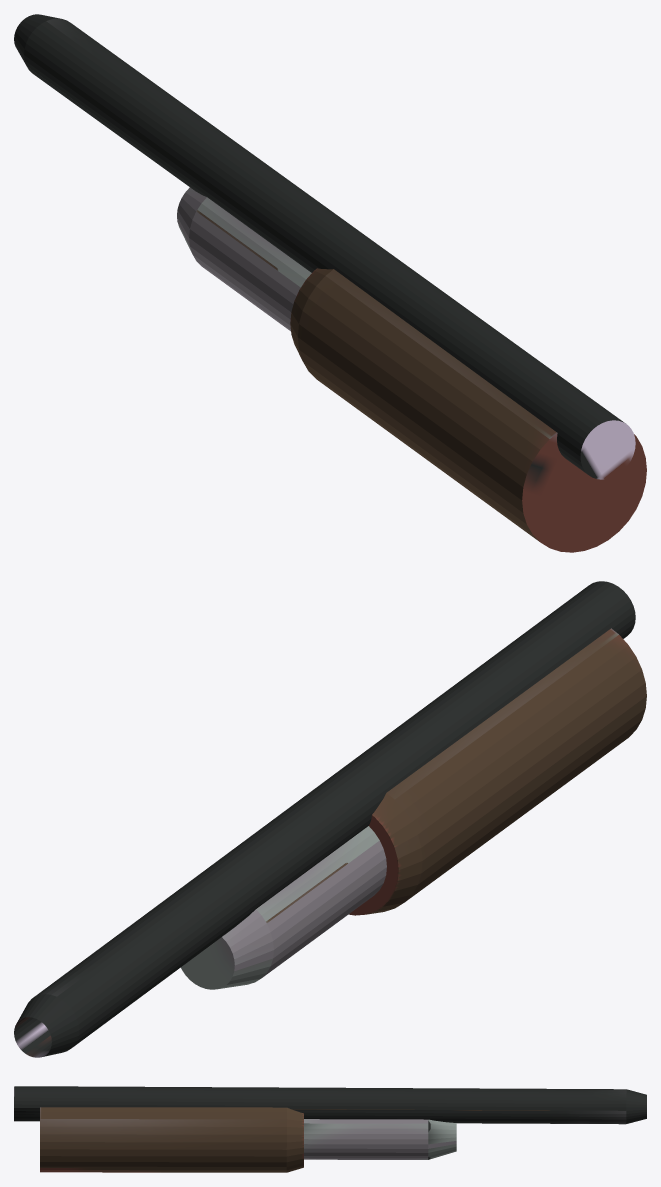
The model's file is Shotty.obj.
3 views of the same model, one above another, from view 1: azimuth 30°, elevation 25°; view 2: azimuth 150°, elevation 25°; view 3: azimuth 270°, elevation 25° (orthographic). The views are drawn at different scales.
Parts seen in each view (by area): view 1: Cylinder.008_Cylinder.034; view 2: Cylinder.008_Cylinder.034; view 3: Cylinder.008_Cylinder.034.
Part boxes in pixels (bbox=[...]): Cylinder.008_Cylinder.034: bbox=[14, 14, 646, 552]; Cylinder.008_Cylinder.034: bbox=[14, 581, 646, 1057]; Cylinder.008_Cylinder.034: bbox=[14, 1086, 646, 1172].
Bounding box in the file's own units: 0.9507 × 1.08 × 7.58.
